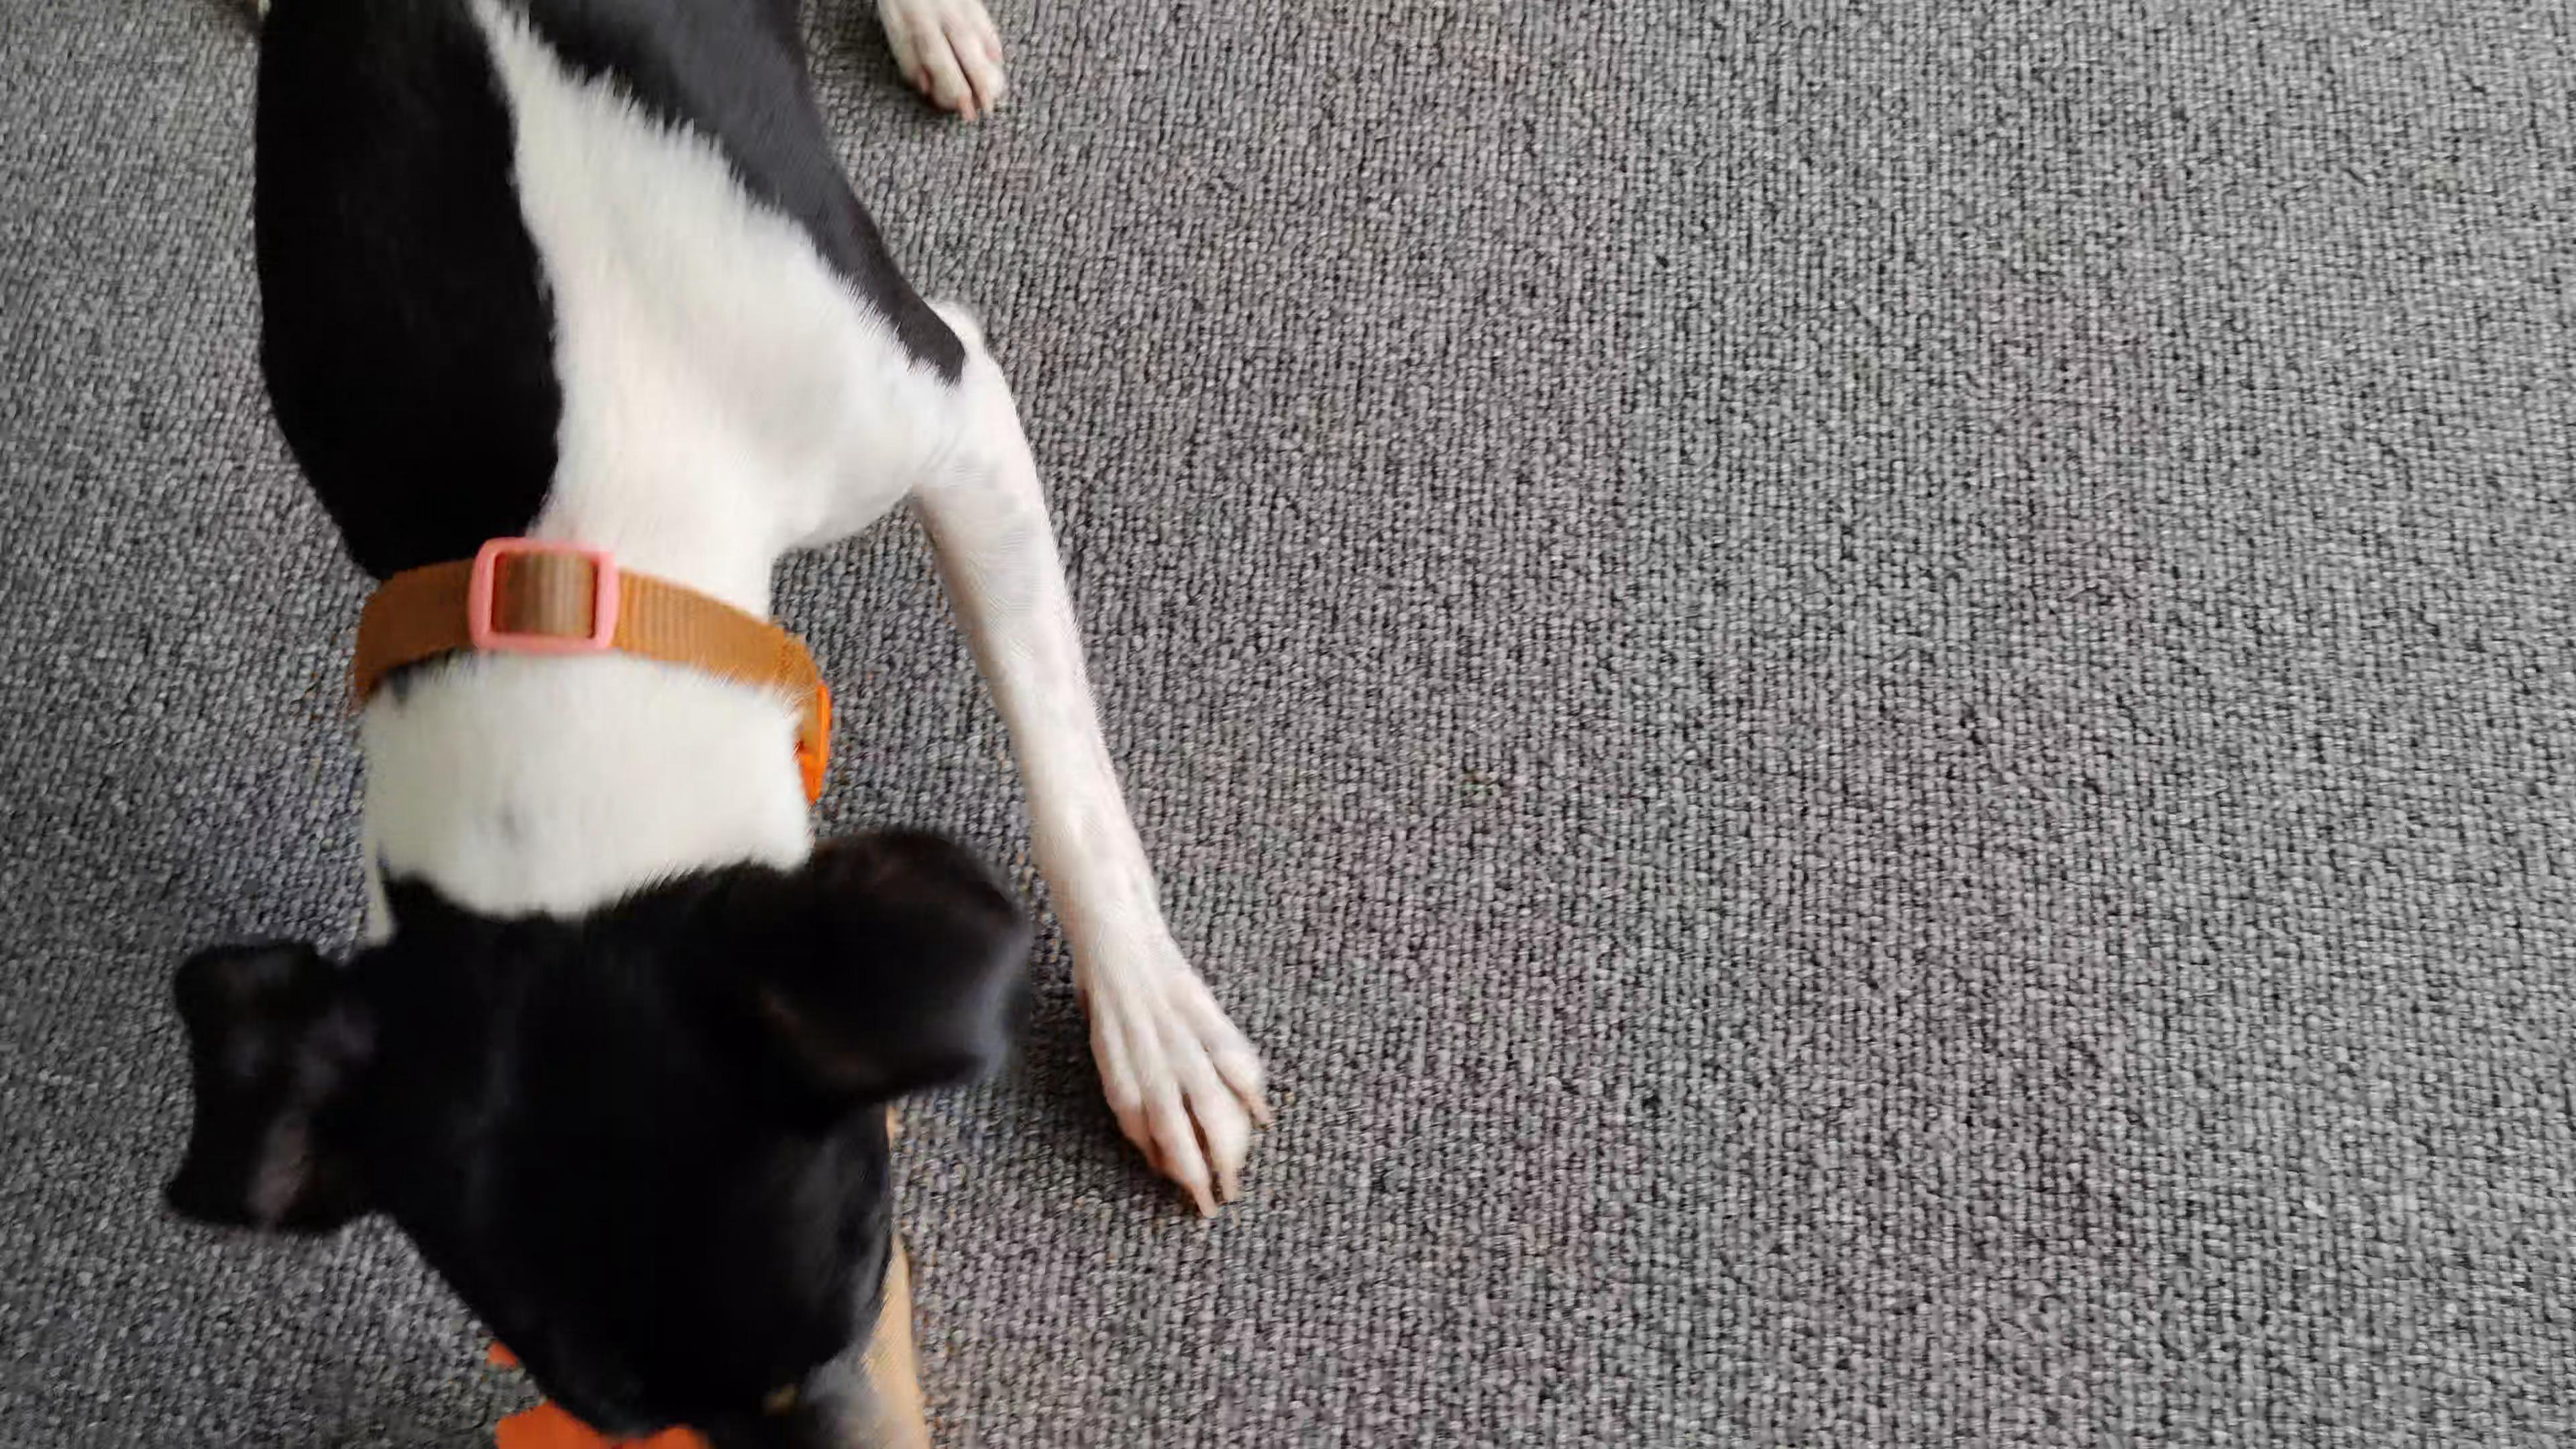Dog: (133, 0, 1329, 1449)
